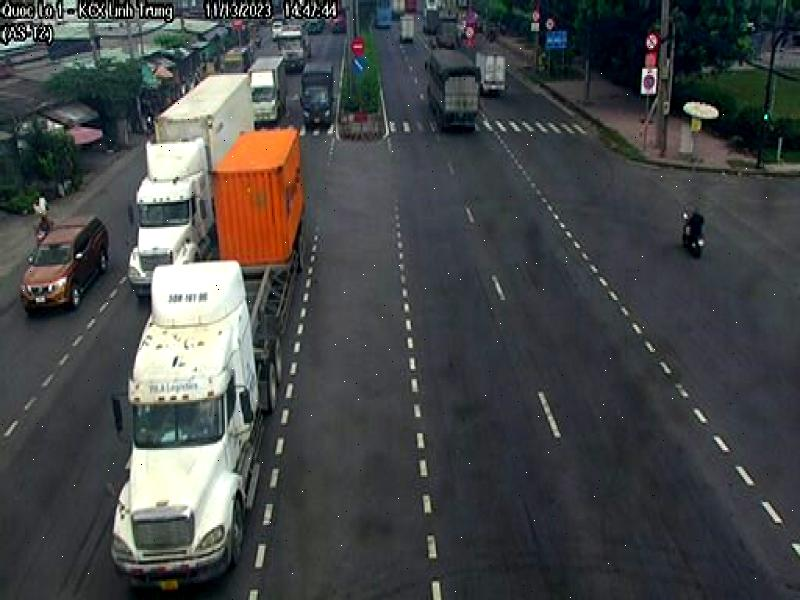truck: (111, 128, 308, 590), (128, 68, 261, 291)
